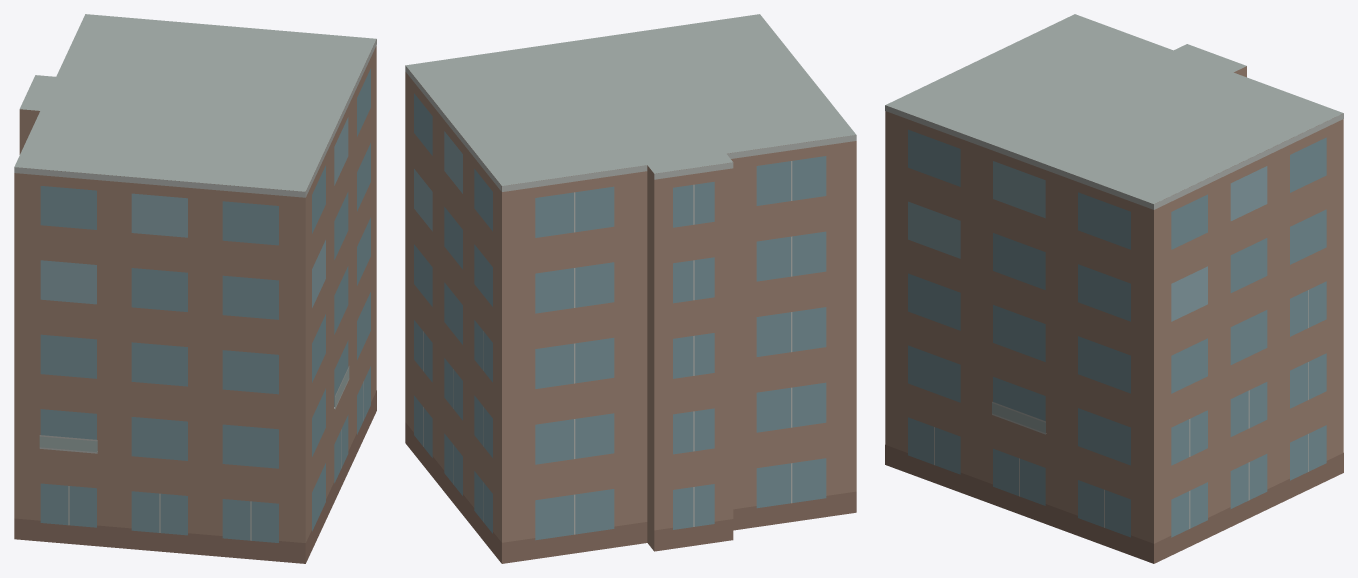
File: survey-upis-32756698.glb
3 renders of one model, left to right at view 1: azimuth 30°, elevation 25°; view 2: azimuth 150°, elevation 25°; view 3: azimuth 270°, elevation 25°, orthographic. The views are drawn at different scales.
Parts seen in each view (by area): view 1: survey-upis-32756698.tmp; view 2: survey-upis-32756698.tmp; view 3: survey-upis-32756698.tmp.
Part boxes in pixels (bbox=[...]): survey-upis-32756698.tmp: bbox=[14, 14, 376, 563]; survey-upis-32756698.tmp: bbox=[405, 14, 856, 563]; survey-upis-32756698.tmp: bbox=[885, 14, 1343, 563].
Size of the model in its own units: 17.31 by 15.25 by 17.63.
